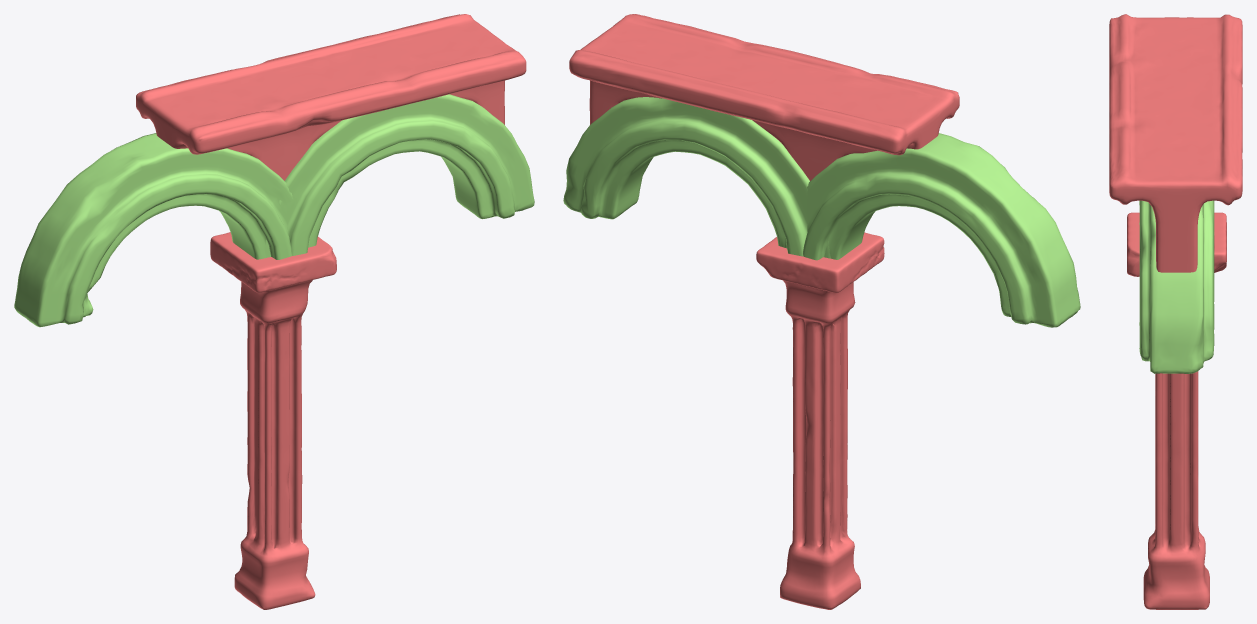
Rendered from arch02.fbx.
The picture shows the model from 3 angles, left to right: view 1: azimuth 30°, elevation 25°; view 2: azimuth 150°, elevation 25°; view 3: azimuth 270°, elevation 25°; orthographic projection. The views are drawn at different scales.
Visible parts, largest first — view 1: pCylinder5, pCube13, pasted__pasted__pCube8, pCube15; view 2: pCylinder5, pCube13, pasted__pasted__pCube8, pCube15; view 3: pCube13, pasted__pasted__pCube8, pCylinder5, pCube15.
Part boxes in pixels (bbox=[...]): pCylinder5: bbox=[14, 94, 534, 327]; pCube13: bbox=[136, 14, 526, 180]; pasted__pasted__pCube8: bbox=[234, 280, 315, 609]; pCube15: bbox=[210, 232, 336, 292]; pCylinder5: bbox=[563, 97, 1080, 327]; pCube13: bbox=[569, 14, 959, 180]; pasted__pasted__pCube8: bbox=[780, 280, 860, 609]; pCube15: bbox=[756, 232, 884, 292]; pCube13: bbox=[1109, 14, 1242, 272]; pasted__pasted__pCube8: bbox=[1143, 371, 1209, 609]; pCylinder5: bbox=[1139, 200, 1214, 373]; pCube15: bbox=[1127, 212, 1226, 276].
Size of the model in its own units: 8.97 by 8.79 by 2.
